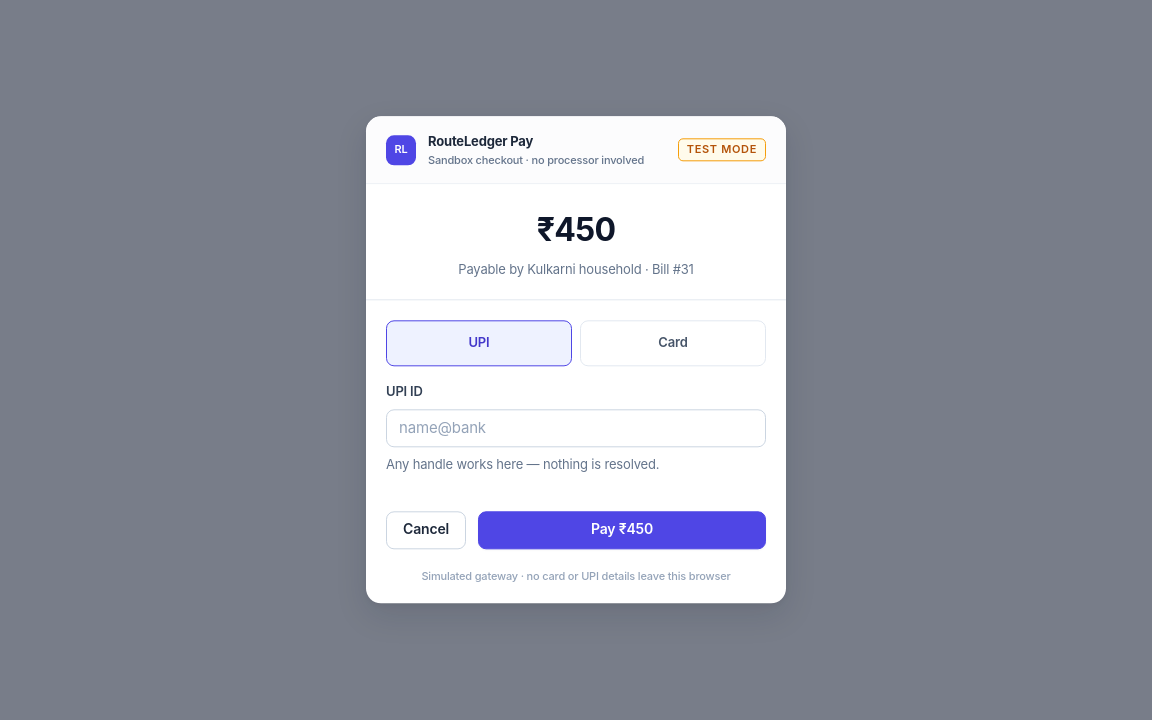
Scenario: components/PaymentGatewaySimulator.jsx › refuses to authorise a malformed UPI handle and never touches the ledger
This screenshot has width=1152, height=720.
Type "not-a-handle" into the field labelled "UPI ID Any handle works here — nothing is resolved." at x=576, y=428, box 386,409 -> 766,447
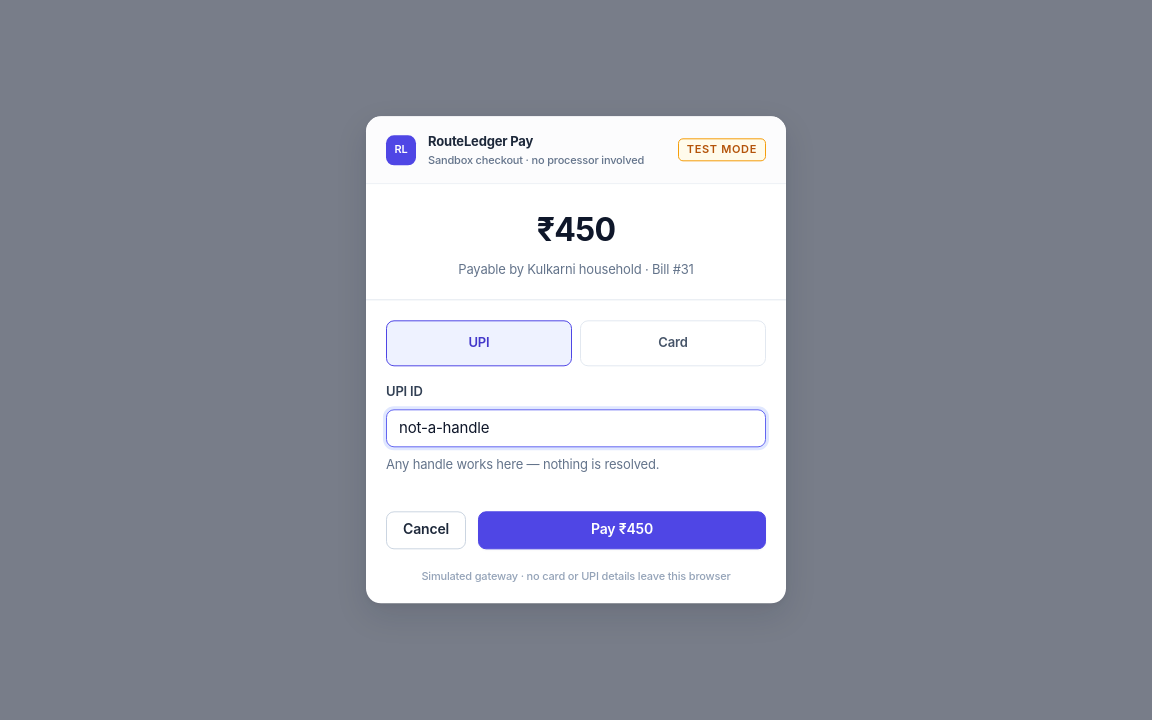
Click the button "Pay ₹450" at x=622, y=530, box 478,511 -> 766,549
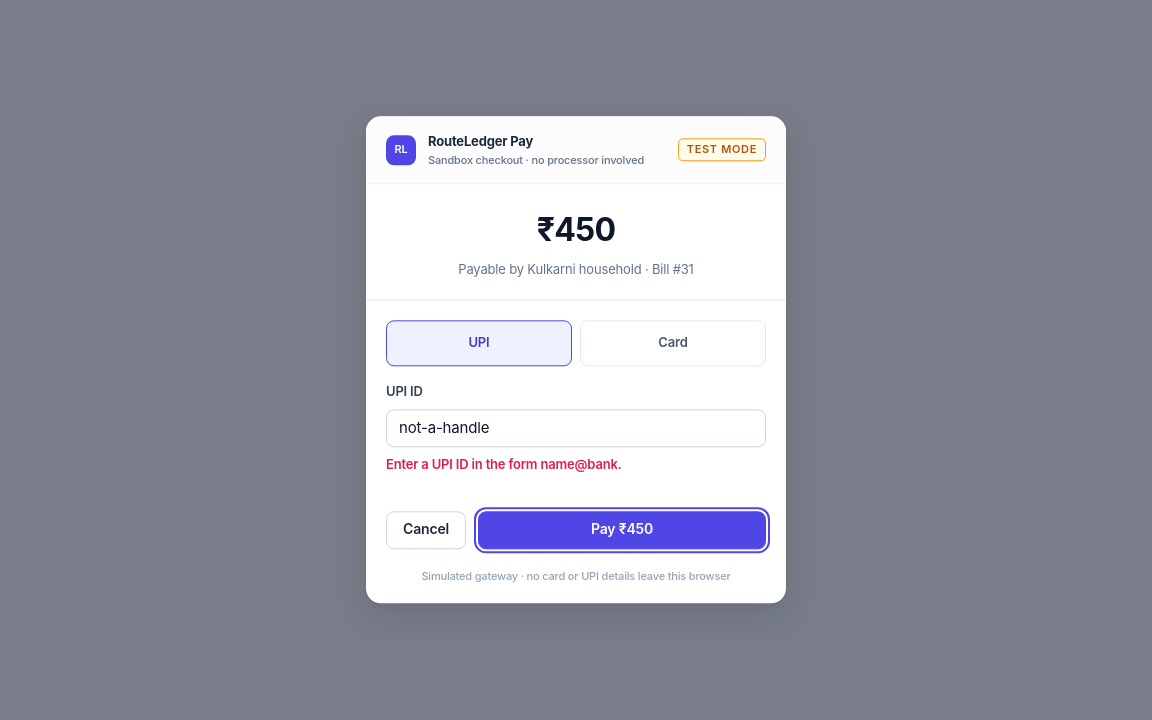
Now the text "Enter a UPI ID in the form name@bank." is shown, box 386,456 -> 622,472
